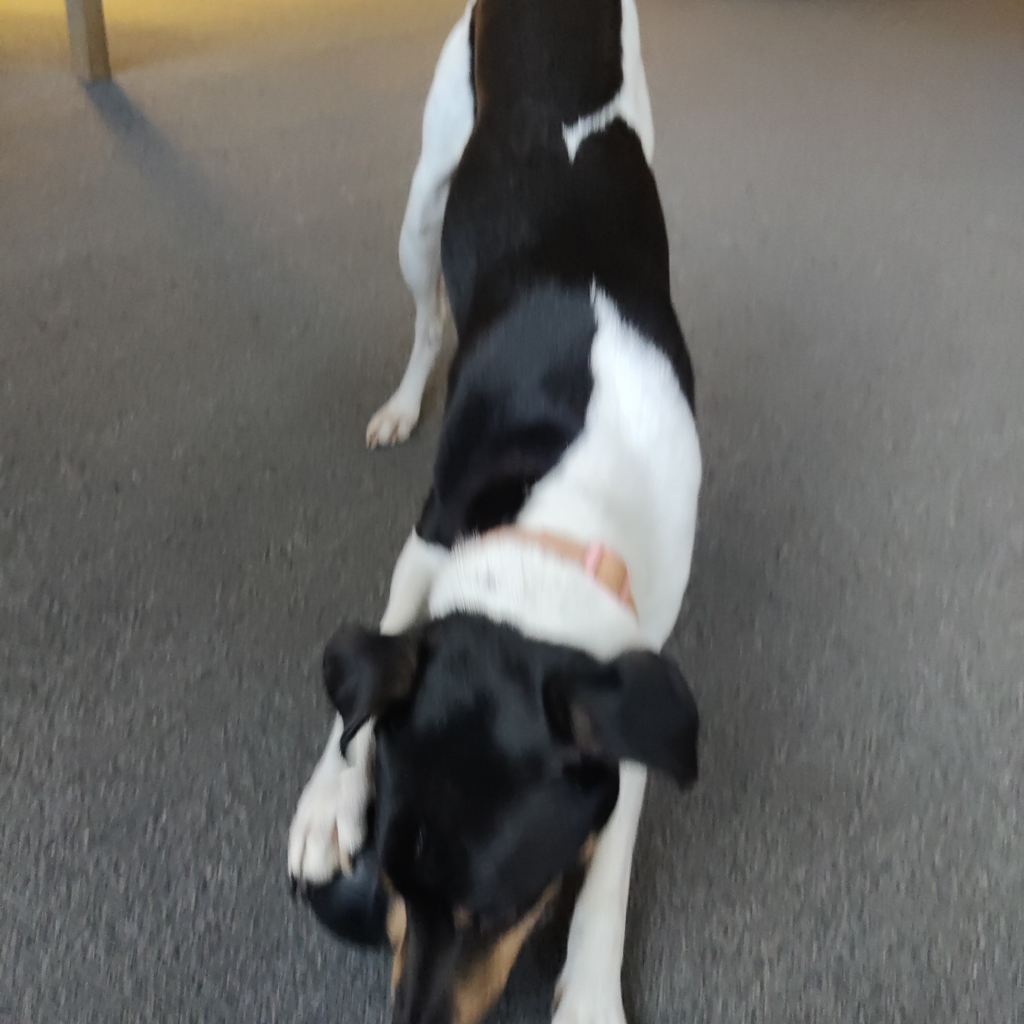Dog: (242, 0, 745, 1024)
